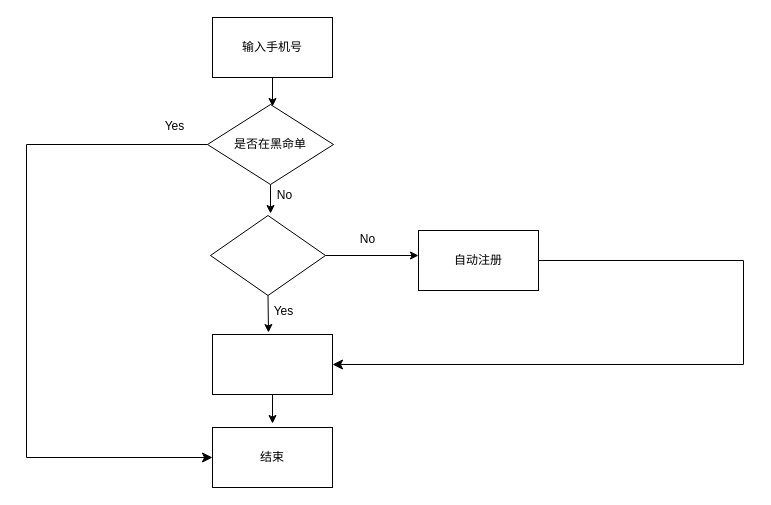
Image size: 771x505. Some labels were removed from this diagram. Each missing label, with the centre of its shape:
"发送验证码" goes at [272,364].
"手机号是否存在" goes at [268,255].
